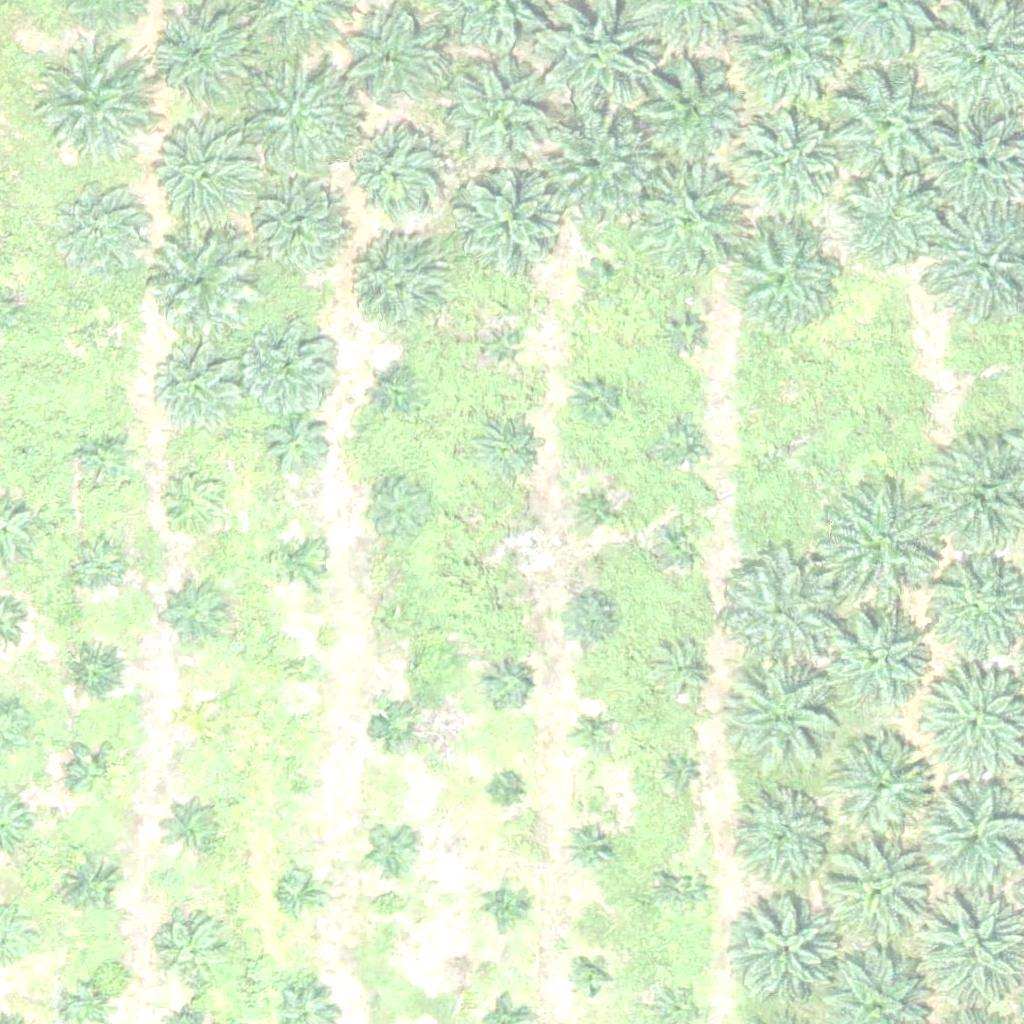Kelapa_Sawit: (28, 41, 153, 167), (438, 55, 563, 181), (534, 114, 659, 240), (621, 42, 746, 168), (822, 66, 947, 192), (823, 483, 948, 609), (240, 56, 365, 181), (723, 103, 836, 217), (836, 165, 949, 279), (139, 224, 252, 337), (455, 170, 568, 283), (727, 222, 840, 335), (824, 836, 936, 950), (146, 120, 258, 233), (634, 170, 746, 283), (724, 556, 836, 669), (733, 662, 845, 775), (49, 180, 149, 281), (152, 8, 252, 109), (250, 180, 350, 281), (340, 8, 440, 109), (342, 125, 442, 226), (340, 238, 440, 339), (826, 606, 926, 707), (832, 734, 932, 835), (245, 315, 345, 416), (737, 900, 837, 1000), (742, 796, 829, 884), (158, 348, 245, 436), (359, 471, 434, 546), (164, 583, 227, 646), (63, 638, 126, 701), (73, 428, 136, 491), (557, 588, 620, 651), (59, 855, 121, 918), (161, 922, 224, 984), (167, 800, 229, 863), (475, 419, 537, 482), (266, 410, 328, 473), (164, 473, 226, 536), (656, 645, 706, 696), (272, 533, 322, 584), (479, 658, 529, 709), (572, 480, 622, 531), (661, 863, 711, 913), (481, 880, 531, 930), (369, 825, 419, 875), (69, 747, 119, 797), (276, 868, 326, 918), (71, 540, 121, 590), (570, 371, 620, 421), (371, 705, 421, 755), (656, 518, 706, 568), (659, 308, 709, 358), (655, 419, 705, 469), (475, 323, 525, 373), (578, 254, 628, 304), (567, 708, 617, 758), (566, 822, 616, 872), (379, 601, 417, 639), (570, 957, 608, 995), (377, 377, 415, 414), (85, 315, 123, 352), (502, 534, 527, 559), (668, 763, 693, 788), (491, 777, 516, 802), (290, 770, 315, 795), (290, 654, 315, 679), (185, 708, 210, 733), (12, 445, 37, 470)
